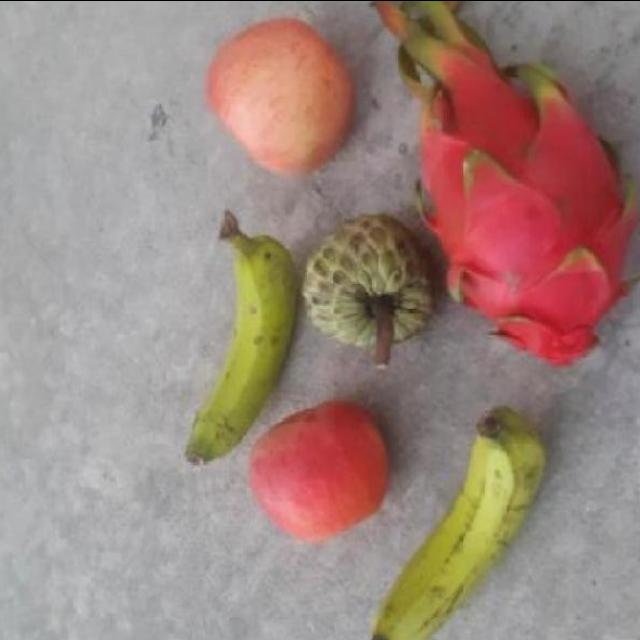apple: (202, 16, 357, 178), (248, 394, 388, 542)
banana: (334, 391, 551, 640), (182, 210, 300, 466)
dragon fruit: (414, 46, 638, 364)
sugar apple: (298, 212, 441, 350)
